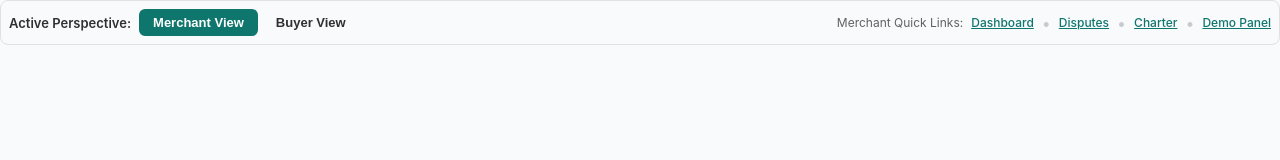
Test: Site Feature Components › ViewSwitcher › renders with initial view and switches between merchant and buyer views
The width and height of the screenshot is (1280, 160).
Check: the navigation bar with test id "view-switcher" is shown, box x1=0 y1=0 x2=1279 y2=45
Check: the link with test id "view-link-merchant-dashboard" is shown, box x1=971 y1=15 x2=1034 y2=30
Click Buyer View
Step 1. Click the tab with test id "view-switcher-buyer-tab" → (311, 22), box x1=262 y1=9 x2=360 y2=36
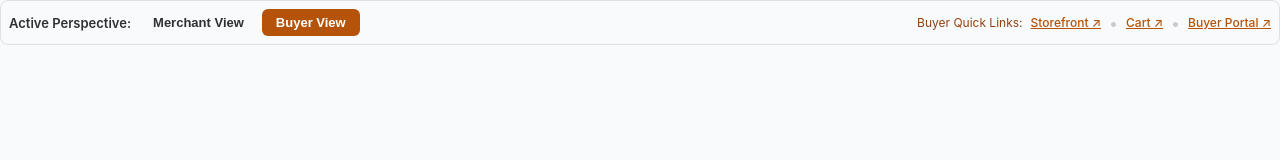
Check: the link with test id "view-link-buyer-shop" is shown, box x1=1030 y1=15 x2=1101 y2=30
Check: the link with test id "view-link-buyer-cart" is shown, box x1=1126 y1=15 x2=1163 y2=30
Check: the link with test id "view-link-buyer-portal" is shown, box x1=1188 y1=15 x2=1271 y2=30
